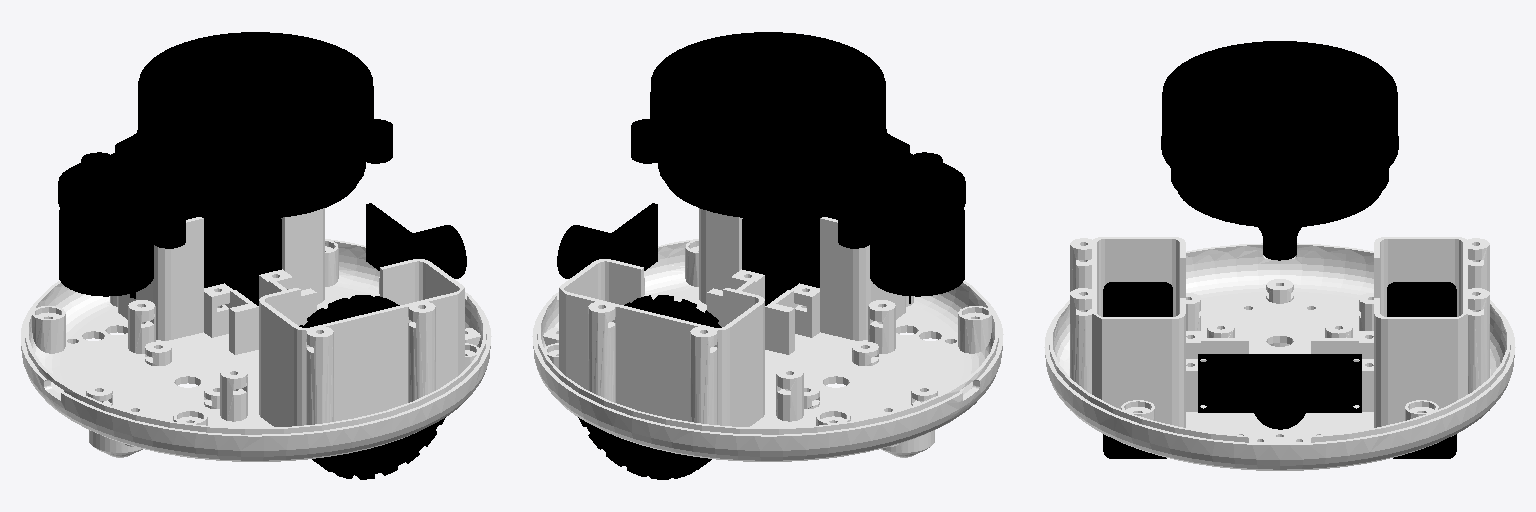
The robot description file, URDF, robot "newbot_urdf":
<?xml version="1.0" encoding="utf-8"?>
<!-- This URDF was automatically created by SolidWorks to URDF Exporter! Originally created by [author] ([email redacted]) 
     Commit Version: 1.5.1-0-g916b5db  Build Version: 1.5.7152.31018
     For more information, please see http://wiki.ros.org/sw_urdf_exporter -->
<robot
  name="newbot_urdf">
  <link
    name="base_footprint">
    <inertial>
      <origin
        xyz="-0.00775913353599292 -4.45123436135647E-07 0.0224459106502343"
        rpy="0 0 0" />
      <mass
        value="0.042003767885397" />
      <inertia
        ixx="5.41153310683831E-05"
        ixy="-8.21154135385092E-10"
        ixz="-1.40402864533751E-06"
        iyy="3.81131720109283E-05"
        iyz="2.455604686999E-11"
        izz="8.53370885900122E-05" />
    </inertial>
    <visual>
      <origin
        xyz="0 0 0"
        rpy="0 0 0" />
      <geometry>
        <mesh
          filename="package://newbot_urdf/meshes/base_footprint.STL" />
      </geometry>
      <material
        name="">
        <color
          rgba="1 1 1 1" />
      </material>
    </visual>
    <collision>
      <origin
        xyz="0 0 0"
        rpy="0 0 0" />
      <geometry>
        <mesh
          filename="package://newbot_urdf/meshes/base_footprint.STL" />
      </geometry>
    </collision>
  </link>
  <link
    name="base_link">
    <inertial>
      <origin
        xyz="0.00245587785282561 6.33597816008611E-06 0.0543979157465607"
        rpy="0 0 0" />
      <mass
        value="0.102142168850335" />
      <inertia
        ixx="0.000130398195368474"
        ixy="2.30208751853264E-08"
        ixz="1.72022592436931E-06"
        iyy="0.00012196793906747"
        iyz="4.42212069902519E-07"
        izz="0.000210469525638524" />
    </inertial>
    <visual>
      <origin
        xyz="0 0 0"
        rpy="0 0 0" />
      <geometry>
        <mesh
          filename="package://newbot_urdf/meshes/base_link.STL" />
      </geometry>
      <material
        name="">
        <color
          rgba="1 1 1 1" />
      </material>
    </visual>
    <collision>
      <origin
        xyz="0 0 0"
        rpy="0 0 0" />
      <geometry>
        <mesh
          filename="package://newbot_urdf/meshes/base_link.STL" />
      </geometry>
    </collision>
  </link>
  <joint
    name="base_link_jonit"
    type="fixed">
    <origin
      xyz="-0.0105 0 0"
      rpy="0 0 0" />
    <parent
      link="base_footprint" />
    <child
      link="base_link" />
    <axis
      xyz="0 0 0" />
  </joint>
  <link
    name="camera_link">
    <inertial>
      <origin
        xyz="3.91630628693024E-19 -1.73472347597681E-18 -0.0085314670248904"
        rpy="0 0 0" />
      <mass
        value="0.0029884424924068" />
      <inertia
        ixx="1.05326706288393E-07"
        ixy="-3.78653234506086E-24"
        ixz="3.90712745724902E-23"
        iyy="2.34938832773514E-07"
        iyz="-7.79991359598618E-24"
        izz="2.20411234201086E-07" />
    </inertial>
    <visual>
      <origin
        xyz="0 0 0"
        rpy="0 0 0" />
      <geometry>
        <mesh
          filename="package://newbot_urdf/meshes/camera_link.STL" />
      </geometry>
      <material
        name="">
        <color
          rgba="0 0 0 1" />
      </material>
    </visual>
    <collision>
      <origin
        xyz="0 0 0"
        rpy="0 0 0" />
      <geometry>
        <mesh
          filename="package://newbot_urdf/meshes/camera_link.STL" />
      </geometry>
    </collision>
  </link>
  <joint
    name="camera_link_joint"
    type="fixed">
    <origin
      xyz="0.0583 0 0.0345"
      rpy="-1.5708 0 -1.5708" />
    <parent
      link="base_link" />
    <child
      link="camera_link" />
    <axis
      xyz="0 0 0" />
  </joint>
  <link
    name="laser_link">
    <inertial>
      <origin
        xyz="0.00189709243924022 1.78249593265129E-05 -0.0485203372217184"
        rpy="0 0 0" />
      <mass
        value="0.243177047685504" />
      <inertia
        ixx="0.000323851802878699"
        ixy="1.4458490030045E-06"
        ixz="-7.15059430612106E-07"
        iyy="0.000301957484260575"
        iyz="-5.75668839299753E-07"
        izz="0.000444598141387616" />
    </inertial>
    <visual>
      <origin
        xyz="0 0 0"
        rpy="0 0 0" />
      <geometry>
        <mesh
          filename="package://newbot_urdf/meshes/laser_link.STL" />
      </geometry>
      <material
        name="">
        <color
          rgba="0 0 0 1" />
      </material>
    </visual>
    <collision>
      <origin
        xyz="0 0 0"
        rpy="0 0 0" />
      <geometry>
        <mesh
          filename="package://newbot_urdf/meshes/laser_link.STL" />
      </geometry>
    </collision>
  </link>
  <joint
    name="laser_link_joint"
    type="fixed">
    <origin
      xyz="0 -4.8329E-05 0.087741"
      rpy="0 0 0" />
    <parent
      link="base_link" />
    <child
      link="laser_link" />
    <axis
      xyz="0 0 0" />
  </joint>
  <link
    name="c_wheel">
    <inertial>
      <origin
        xyz="-2.46279895643742E-08 -5.25793749051891E-08 0.00260269273033002"
        rpy="0 0 0" />
      <mass
        value="0.00233535461736231" />
      <inertia
        ixx="6.25697387572861E-08"
        ixy="-3.63504431582548E-10"
        ixz="1.69638371397866E-13"
        iyy="4.56882204112575E-08"
        iyz="3.59337812465451E-13"
        izz="7.82059005202535E-08" />
    </inertial>
    <visual>
      <origin
        xyz="0 0 0"
        rpy="0 0 0" />
      <geometry>
        <mesh
          filename="package://newbot_urdf/meshes/c_wheel.STL" />
      </geometry>
      <material
        name="">
        <color
          rgba="1 1 1 1" />
      </material>
    </visual>
    <collision>
      <origin
        xyz="0 0 0"
        rpy="0 0 0" />
      <geometry>
        <mesh
          filename="package://newbot_urdf/meshes/c_wheel.STL" />
      </geometry>
    </collision>
  </link>
  <joint
    name="c_wheel_joint"
    type="fixed">
    <origin
      xyz="-0.04 0 0.006"
      rpy="0 0 0" />
    <parent
      link="base_link" />
    <child
      link="c_wheel" />
    <axis
      xyz="0 0 0" />
  </joint>
  <link
    name="l_wheel">
    <inertial>
      <origin
        xyz="-0.000114661874782991 0.000131055675050916 1.23032933758462E-08"
        rpy="0 0 0" />
      <mass
        value="0.0157291965831499" />
      <inertia
        ixx="2.82568469118123E-06"
        ixy="8.65405185419472E-11"
        ixz="7.2292113756157E-13"
        iyy="4.8493749873191E-06"
        iyz="-4.83694707866874E-13"
        izz="2.82555969228873E-06" />
    </inertial>
    <visual>
      <origin
        xyz="0 0 0"
        rpy="0 0 0" />
      <geometry>
        <mesh
          filename="package://newbot_urdf/meshes/l_wheel.STL" />
      </geometry>
      <material
        name="">
        <color
          rgba="0 0 0 1" />
      </material>
    </visual>
    <collision>
      <origin
        xyz="0 0 0"
        rpy="0 0 0" />
      <geometry>
        <mesh
          filename="package://newbot_urdf/meshes/l_wheel.STL" />
      </geometry>
    </collision>
  </link>
  <joint
    name="l_wheel_joint"
    type="continuous">
    <origin
      xyz="0.010612 0.036125 0.022"
      rpy="0 0 0" />
    <parent
      link="base_link" />
    <child
      link="l_wheel" />
    <axis
      xyz="0 1 0" />
  </joint>
  <link
    name="r_wheel">
    <inertial>
      <origin
        xyz="-0.000114661874782943 -0.000131055675050937 -1.2303293433092E-08"
        rpy="0 0 0" />
      <mass
        value="0.0157291965831499" />
      <inertia
        ixx="2.82568469118123E-06"
        ixy="-8.65405185417432E-11"
        ixz="-7.22921136372731E-13"
        iyy="4.84937498731911E-06"
        iyz="-4.83694709233175E-13"
        izz="2.82555969228873E-06" />
    </inertial>
    <visual>
      <origin
        xyz="0 0 0"
        rpy="0 0 0" />
      <geometry>
        <mesh
          filename="package://newbot_urdf/meshes/r_wheel.STL" />
      </geometry>
      <material
        name="">
        <color
          rgba="0 0 0 1" />
      </material>
    </visual>
    <collision>
      <origin
        xyz="0 0 0"
        rpy="0 0 0" />
      <geometry>
        <mesh
          filename="package://newbot_urdf/meshes/r_wheel.STL" />
      </geometry>
    </collision>
  </link>
  <joint
    name="r_wheel_joint"
    type="continuous">
    <origin
      xyz="0.010612 -0.036125 0.022"
      rpy="0 0 0" />
    <parent
      link="base_link" />
    <child
      link="r_wheel" />
    <axis
      xyz="0 1 0" />
  </joint>
</robot>

--- Facts derived from the render (not from the file) ---
3 views of the same robot in one strip: view 1: azimuth 30°, elevation 25°; view 2: azimuth 150°, elevation 25°; view 3: azimuth 270°, elevation 25° (orthographic).
Robot: newbot_urdf — 7 links, 6 joints (2 continuous, 4 fixed); root link base_footprint; default pose: all joints at 0.
Visible links, largest first — view 1: base_footprint, laser_link, l_wheel, r_wheel, camera_link, c_wheel; view 2: base_footprint, laser_link, r_wheel, l_wheel, camera_link, c_wheel; view 3: base_footprint, laser_link, camera_link, l_wheel, r_wheel.
Boxes of the visible links, x1=… form: base_footprint: x1=21, y1=208, x2=491, y2=461; laser_link: x1=58, y1=32, x2=392, y2=298; l_wheel: x1=186, y1=217, x2=281, y2=305; r_wheel: x1=299, y1=295, x2=445, y2=479; camera_link: x1=366, y1=203, x2=466, y2=278; c_wheel: x1=89, y1=430, x2=142, y2=457; base_footprint: x1=532, y1=208, x2=1003, y2=461; laser_link: x1=631, y1=32, x2=965, y2=303; r_wheel: x1=742, y1=217, x2=837, y2=305; l_wheel: x1=578, y1=295, x2=721, y2=479; camera_link: x1=557, y1=203, x2=657, y2=278; c_wheel: x1=881, y1=430, x2=934, y2=457; base_footprint: x1=1044, y1=237, x2=1515, y2=470; laser_link: x1=1161, y1=41, x2=1398, y2=260; camera_link: x1=1198, y1=354, x2=1361, y2=429; l_wheel: x1=1387, y1=282, x2=1456, y2=458; r_wheel: x1=1103, y1=282, x2=1172, y2=458.
Size in the robot's own frame: 0.1199 by 0.12 by 0.0966 metres.
6 mesh visuals loaded from 7 distinct referenced files (6 binary STL); not drawn: 1 (reference not matched to a file when rendering).